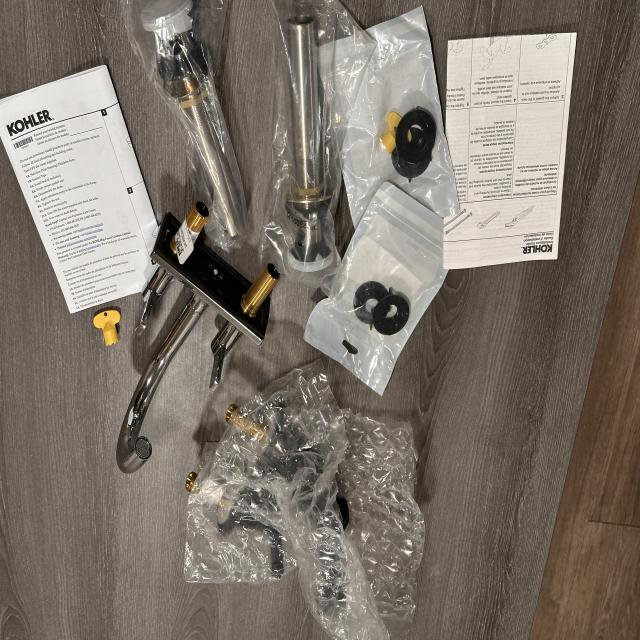10: (116, 201, 279, 473)
11: (260, 0, 375, 294), (122, 0, 247, 252)
12o: (313, 7, 459, 227)
13o: (304, 182, 447, 395)
14: (93, 309, 120, 345)
8: (0, 65, 158, 313), (444, 32, 577, 268)
9c: (184, 360, 424, 639)
